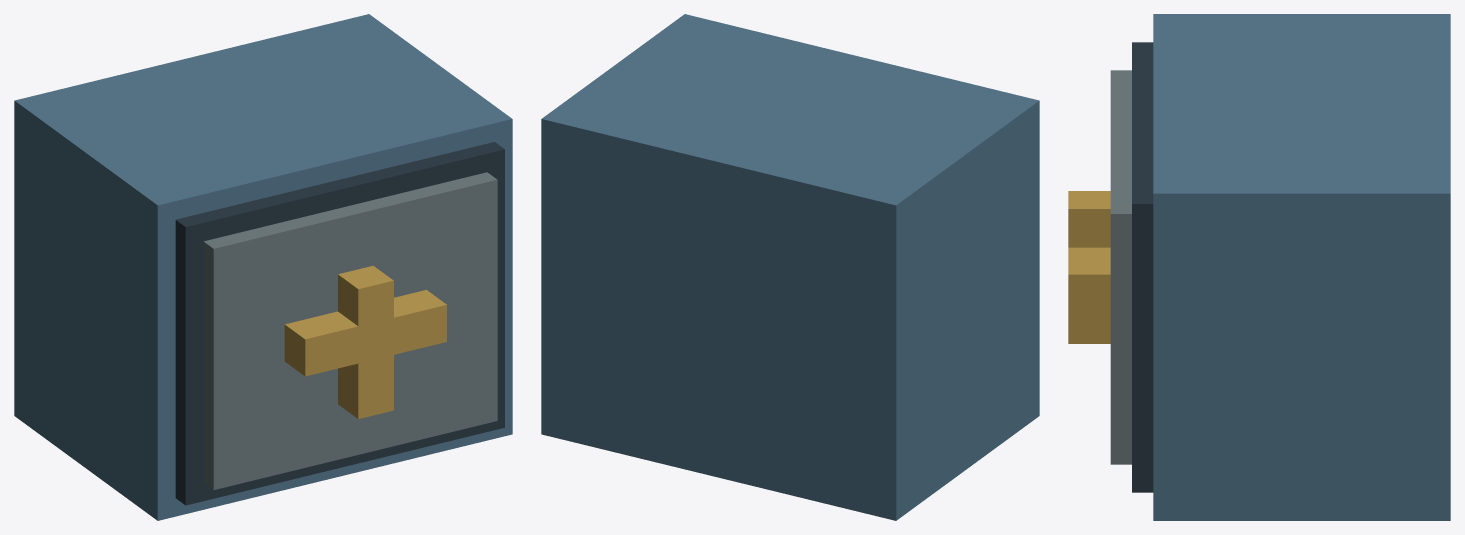
File: security-01.glb
3 renders of one model, left to right at view 1: azimuth 30°, elevation 25°; view 2: azimuth 150°, elevation 25°; view 3: azimuth 270°, elevation 25°, orthographic. The views are drawn at different scales.
Parts seen in each view (by area): view 1: Security vault; view 2: Security vault; view 3: Security vault.
Boxes of the visible parts, x1,y1,x2,y2 form: Security vault: (14,14,512,520); Security vault: (541,14,1039,520); Security vault: (1068,14,1450,520).
Size of the model in its own units: 1.6 by 1.36 by 1.44.
